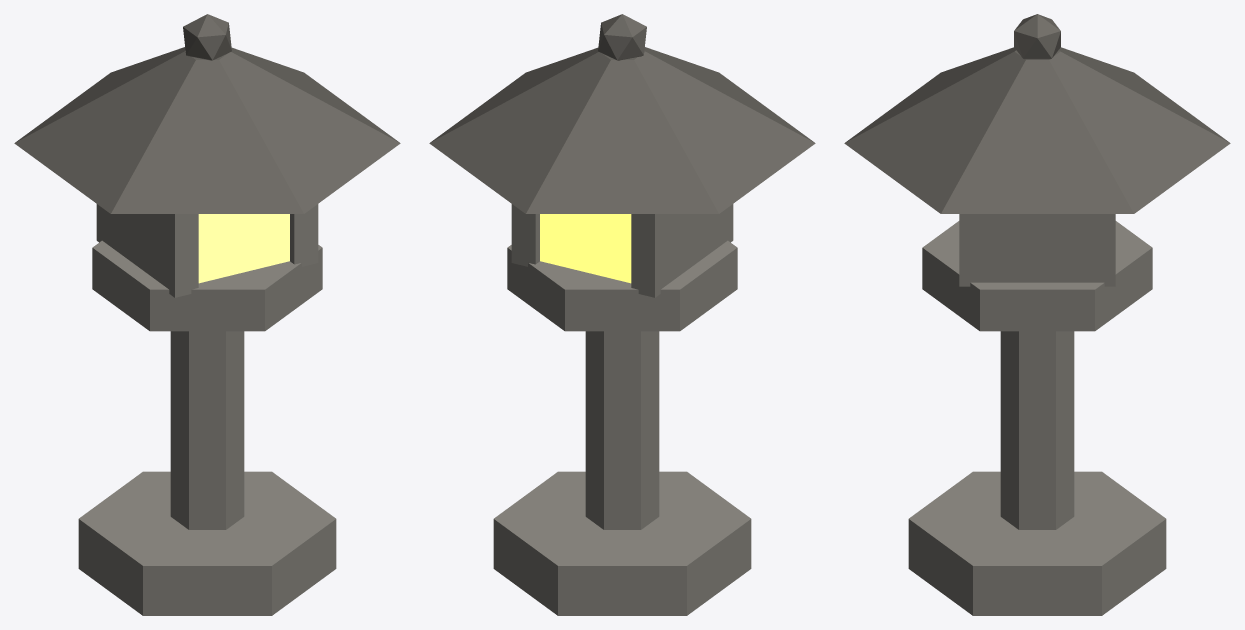
The model's file is lantern.glb.
3 renders of one model, left to right at view 1: azimuth 30°, elevation 25°; view 2: azimuth 150°, elevation 25°; view 3: azimuth 270°, elevation 25°, orthographic.
Parts seen in each view (by area): view 1: Cone, Cylinder, Cylinder.001, Cylinder.002, Cube.001, Cube, Icosphere, Cube.002; view 2: Cone, Cylinder, Cylinder.001, Cylinder.002, Cube.001, Cube, Icosphere, Cube.002; view 3: Cone, Cylinder, Cylinder.001, Cylinder.002, Cube.002, Icosphere.
Boxes of the visible parts, left/top/right/bottom form: Cone: left=14, top=47, right=400, bottom=213; Cylinder: left=78, top=471, right=336, bottom=615; Cylinder.001: left=170, top=331, right=244, bottom=529; Cylinder.002: left=92, top=240, right=322, bottom=331; Cube.001: left=96, top=204, right=198, bottom=297; Cube: left=198, top=214, right=289, bottom=283; Icosphere: left=183, top=14, right=231, bottom=60; Cube.002: left=290, top=204, right=318, bottom=266; Cone: left=429, top=47, right=815, bottom=213; Cylinder: left=493, top=471, right=751, bottom=615; Cylinder.001: left=585, top=331, right=659, bottom=529; Cylinder.002: left=507, top=240, right=737, bottom=331; Cube.001: left=631, top=204, right=733, bottom=297; Cube: left=540, top=214, right=631, bottom=283; Icosphere: left=598, top=14, right=646, bottom=60; Cube.002: left=511, top=204, right=539, bottom=266; Cone: left=844, top=47, right=1230, bottom=213; Cylinder: left=908, top=471, right=1166, bottom=615; Cylinder.001: left=1000, top=331, right=1074, bottom=529; Cylinder.002: left=922, top=221, right=1152, bottom=331; Cube.002: left=959, top=214, right=1115, bottom=286; Icosphere: left=1014, top=14, right=1060, bottom=59.
Size of the model in its own units: 0.7275 by 1.33 by 0.84.
